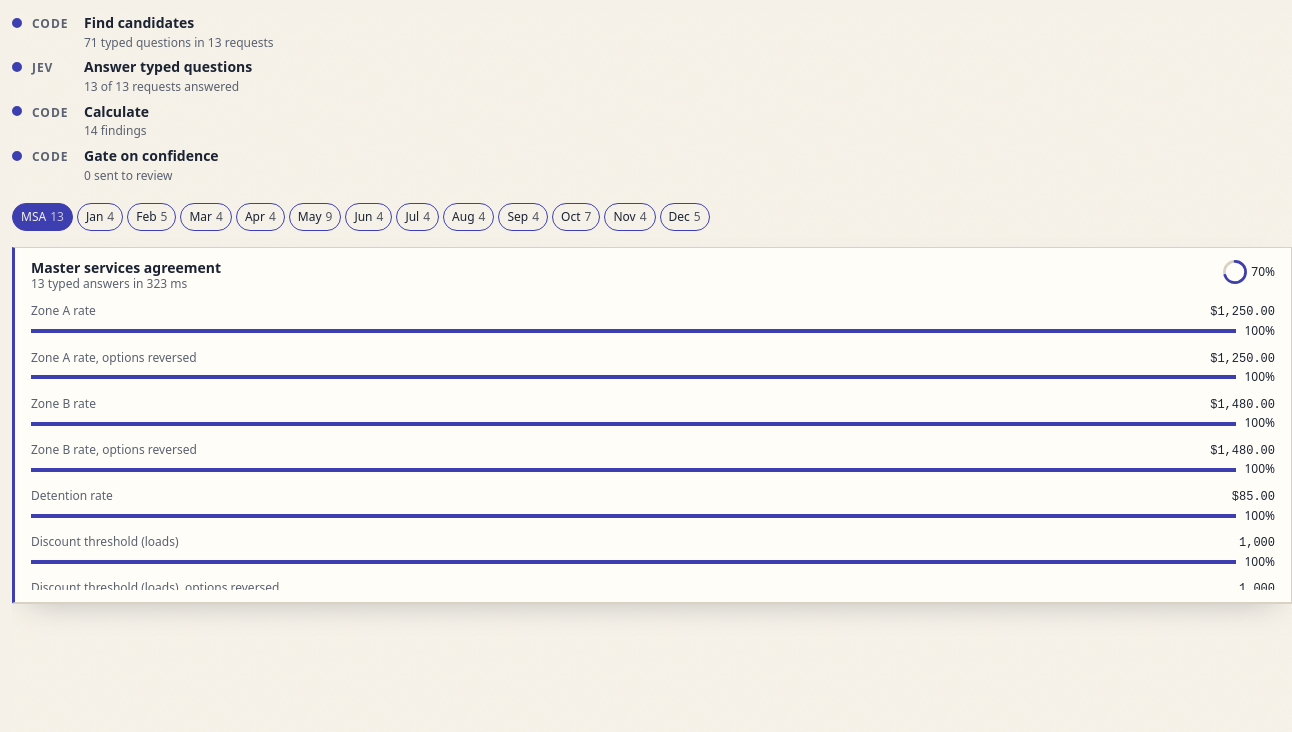
Test: JevPipeline › shows the agreement answers first, with probabilities, then any request picked
Expected: the element "Master services agreement" shows "13 typed answers", 12,247 -> 1291,603
Click the button named "Invoice INV-2026-10": click(576, 217) 552,203 -> 600,231
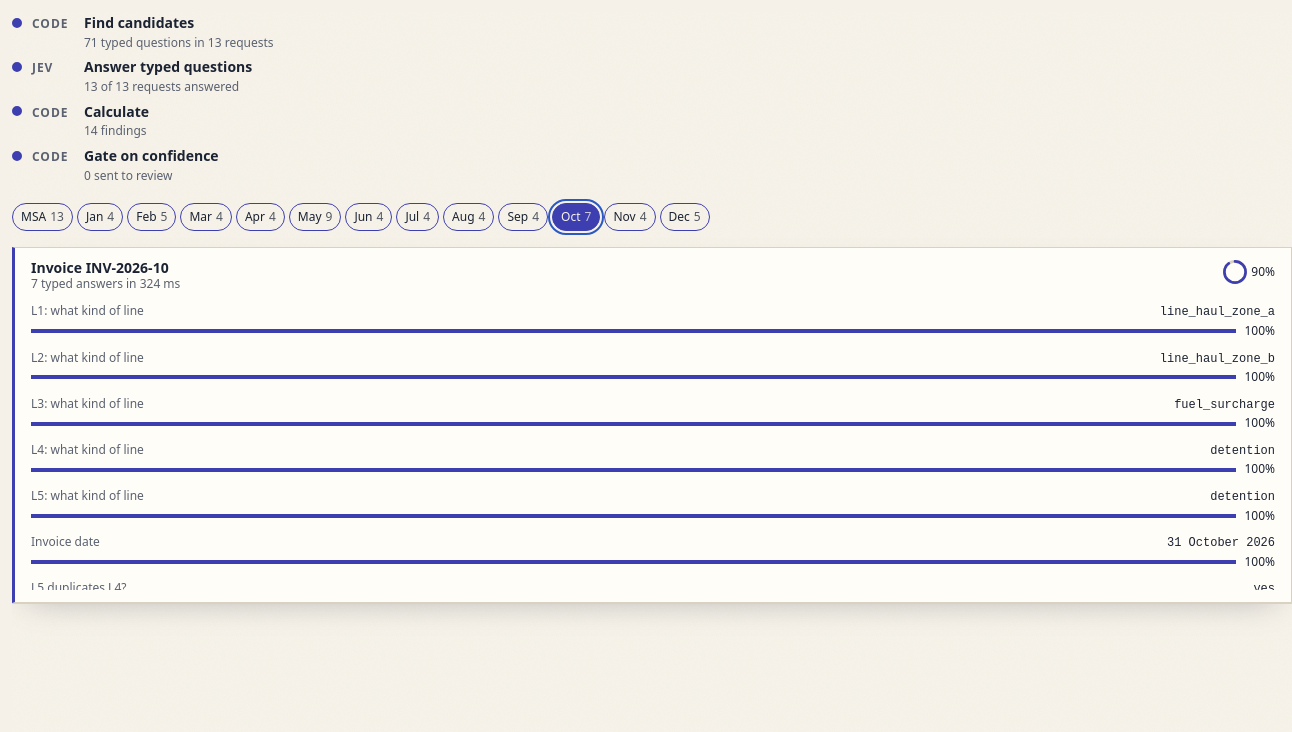
Expected: the text "L5 duplicates L4?" is shown, 31,579 -> 126,590
